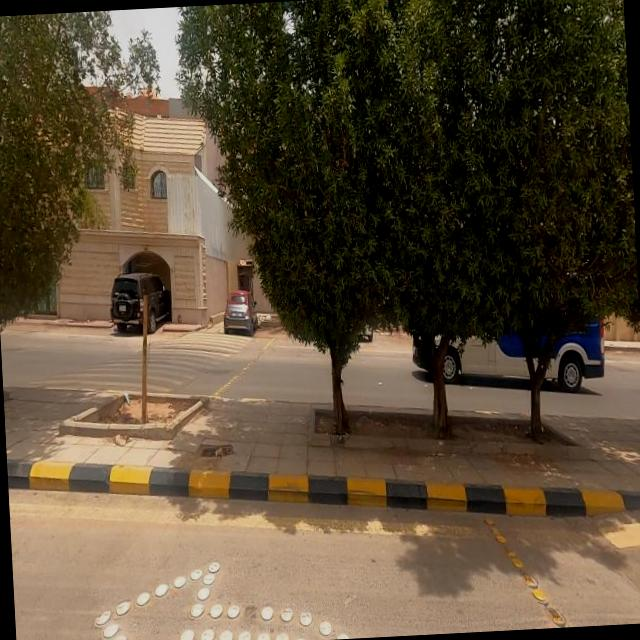debris: (103, 362, 137, 422), (102, 412, 135, 465)
